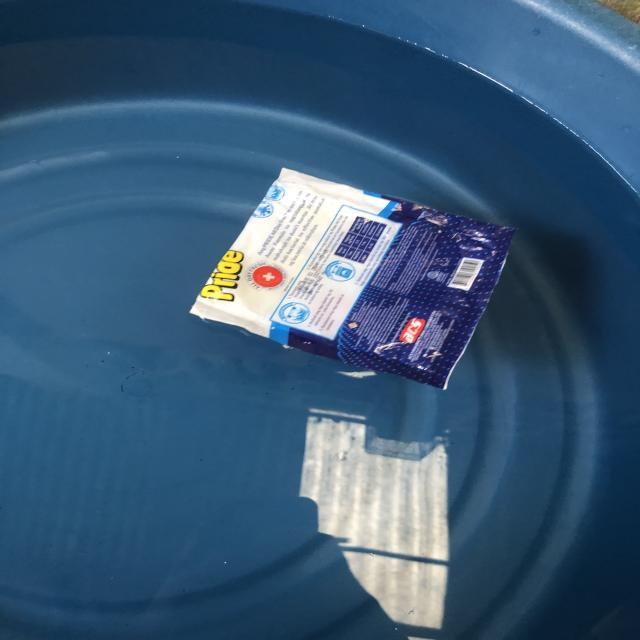Plastic Wrapper: (191, 164, 519, 394)
